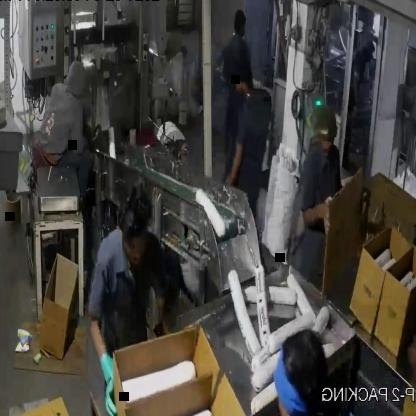glove: (97, 337, 122, 416)
no_glove: (301, 189, 338, 244), (221, 126, 244, 194), (403, 321, 416, 380)
